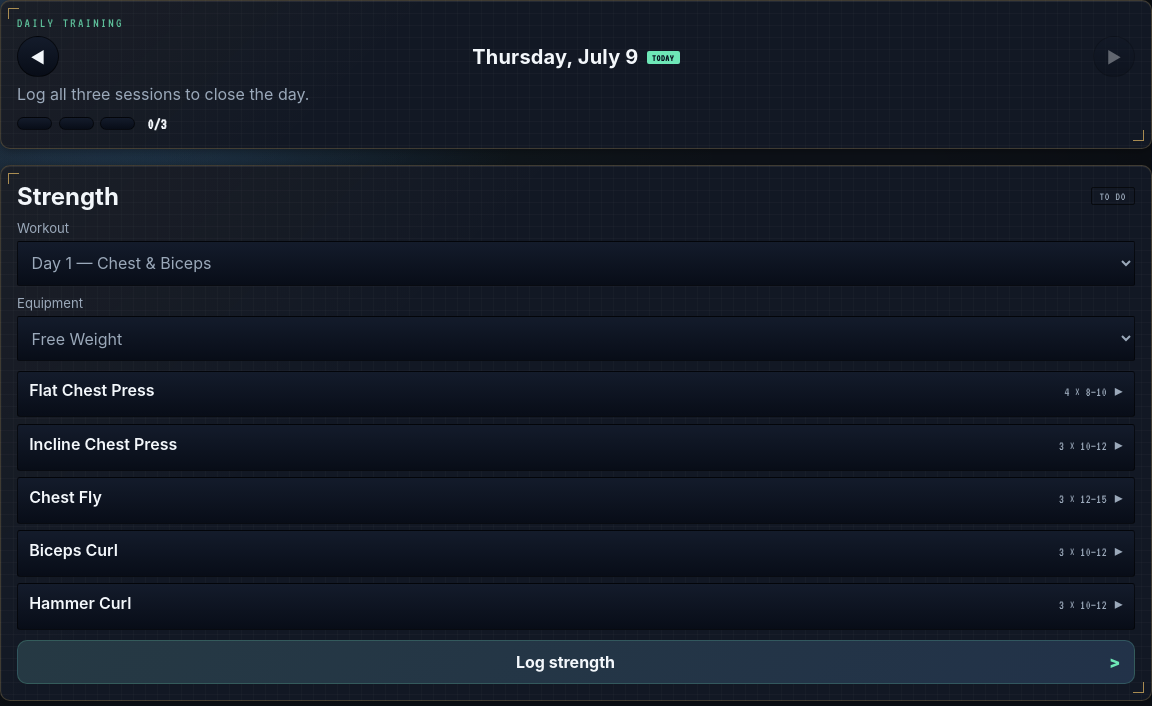
Test: DailyFitness › logs all three sessions and completes the day
The image size is (1152, 706).
What coordinates should you click on to do the following:
click the button "Log strength"
I would click on:
 (576, 662)
Its box is [17,640,1135,684].
(page scrolled)
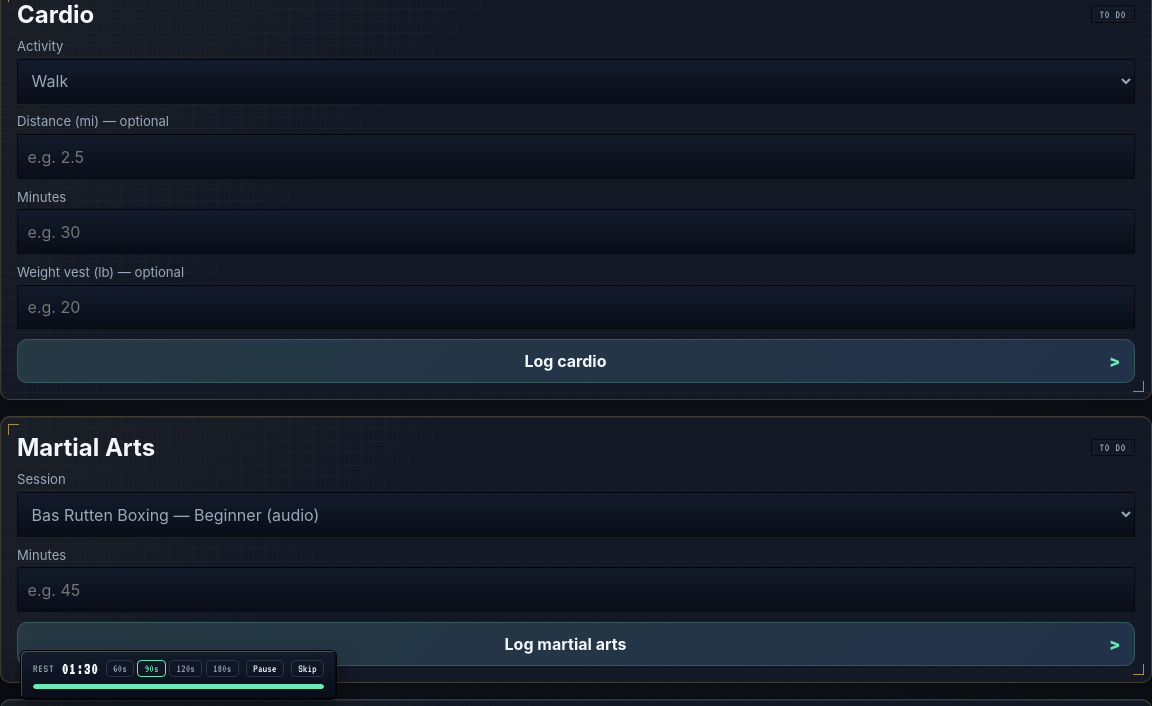
What coordinates should you click on to do the following:
click the button "Log cardio"
I would click on:
 (576, 361)
Its box is [17,339,1135,383].
(page scrolled)
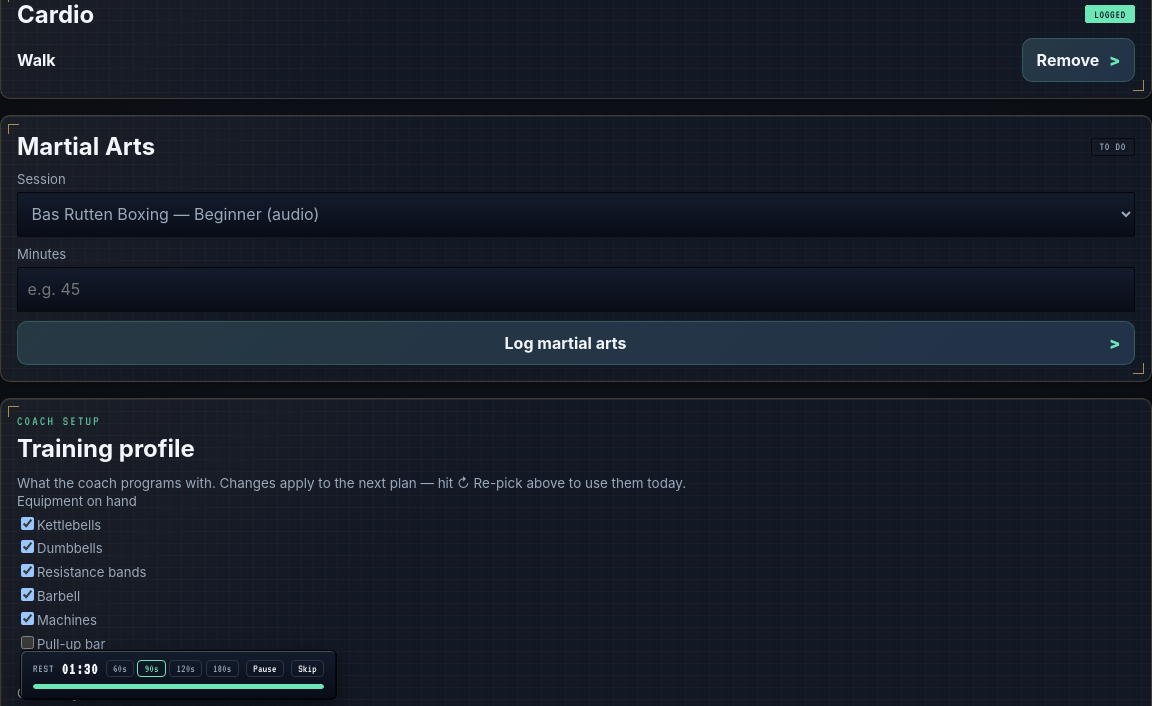
What coordinates should you click on to do the following:
click the button "Log martial arts"
I would click on:
 (576, 343)
Its box is [17,321,1135,365].
(page scrolled)
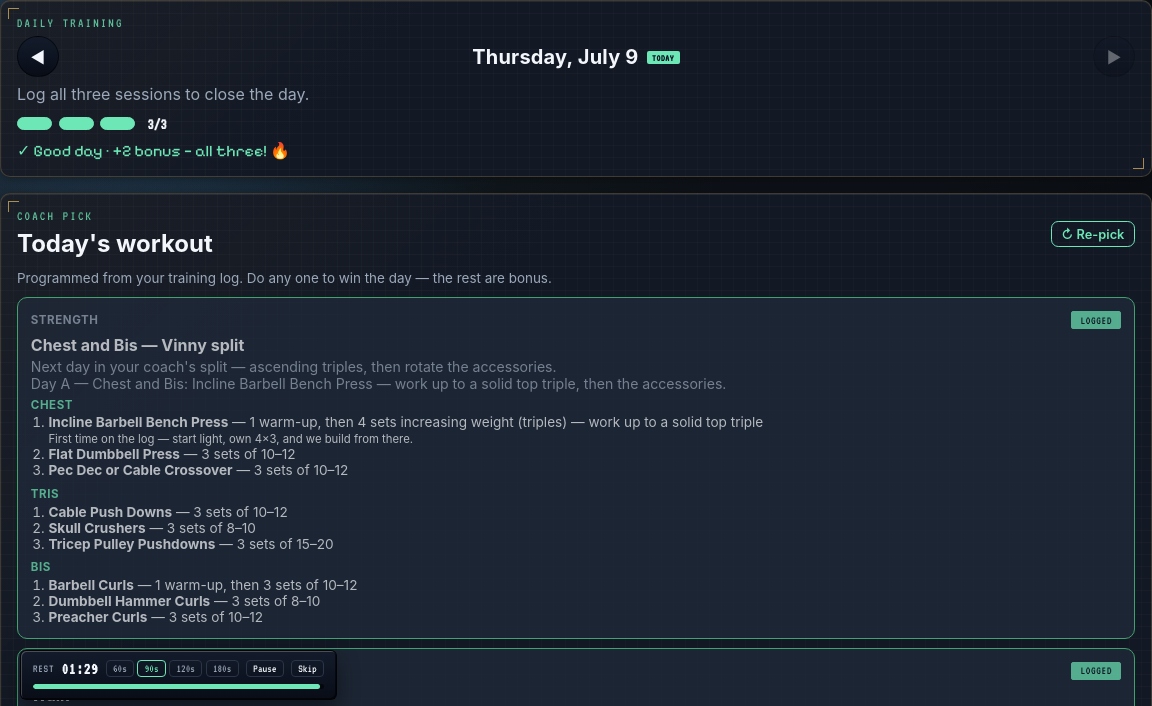
Expected: the text "✓ Good day · +2 bonus — all three! 🔥" is shown, [17,141,290,160]
Expected: the text "3/3" is shown, [147,116,166,132]
